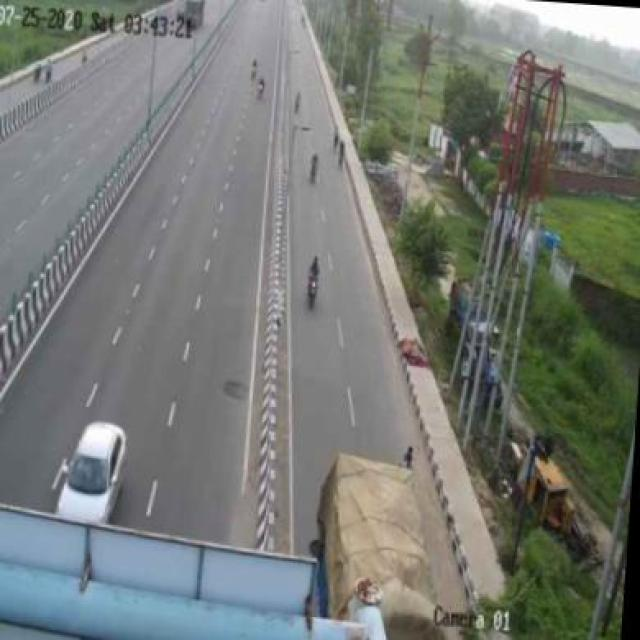car: (56, 410, 138, 525)
